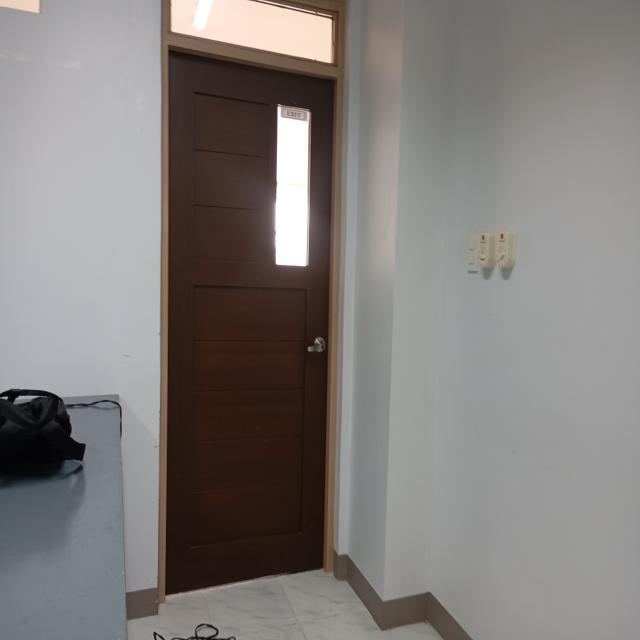door: (146, 0, 339, 611)
